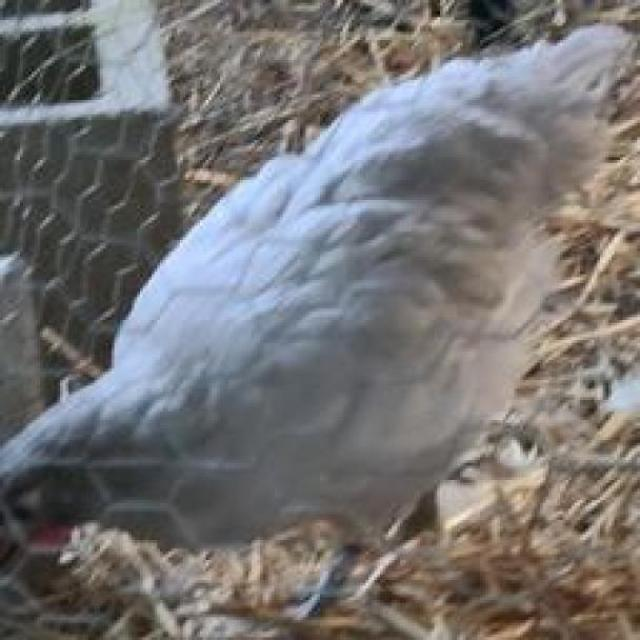Chicken: (0, 22, 640, 632)
